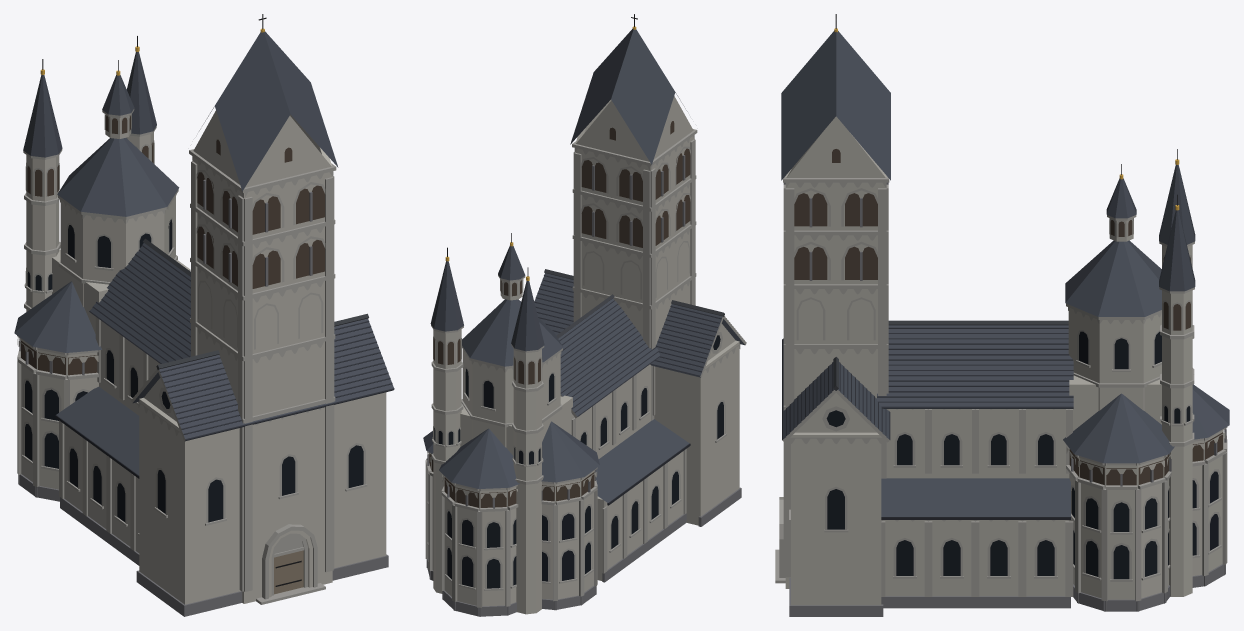
The model's file is koeln_st_aposteln.glb.
3 views of the same model, side by side, from view 1: azimuth 30°, elevation 25°; view 2: azimuth 150°, elevation 25°; view 3: azimuth 270°, elevation 25° (orthographic). The views are drawn at different scales.
Parts seen in each view (by area): view 1: Kirche; view 2: Kirche; view 3: Kirche.
Part boxes in pixels (x1,y1,x2,y2): Kirche: (14, 14, 394, 616); Kirche: (423, 14, 746, 616); Kirche: (775, 14, 1229, 616).
Size of the model in its own units: 13.76 by 35.1 by 26.11.
